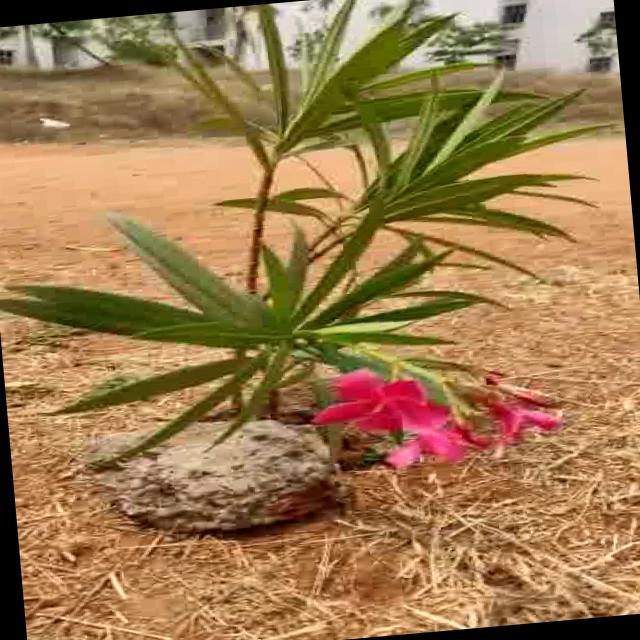OLEANDER: (0, 0, 608, 478)
